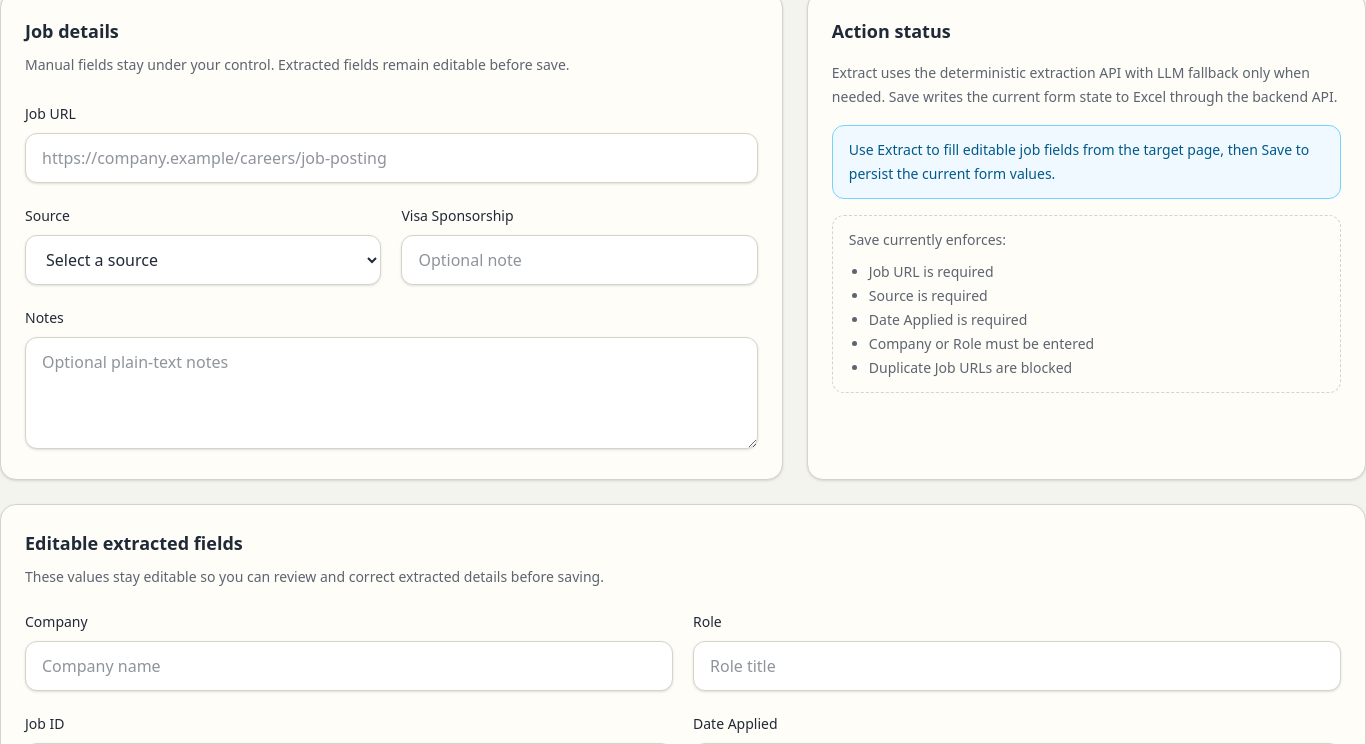
it: AddJobForm › handles a malformed extraction response safely
Type "https://jobs.example.com/frontend-role" into the field labelled "Job URL".
click(391, 158); type("https://jobs.example.com/frontend-role")  # box [25,133,758,183]
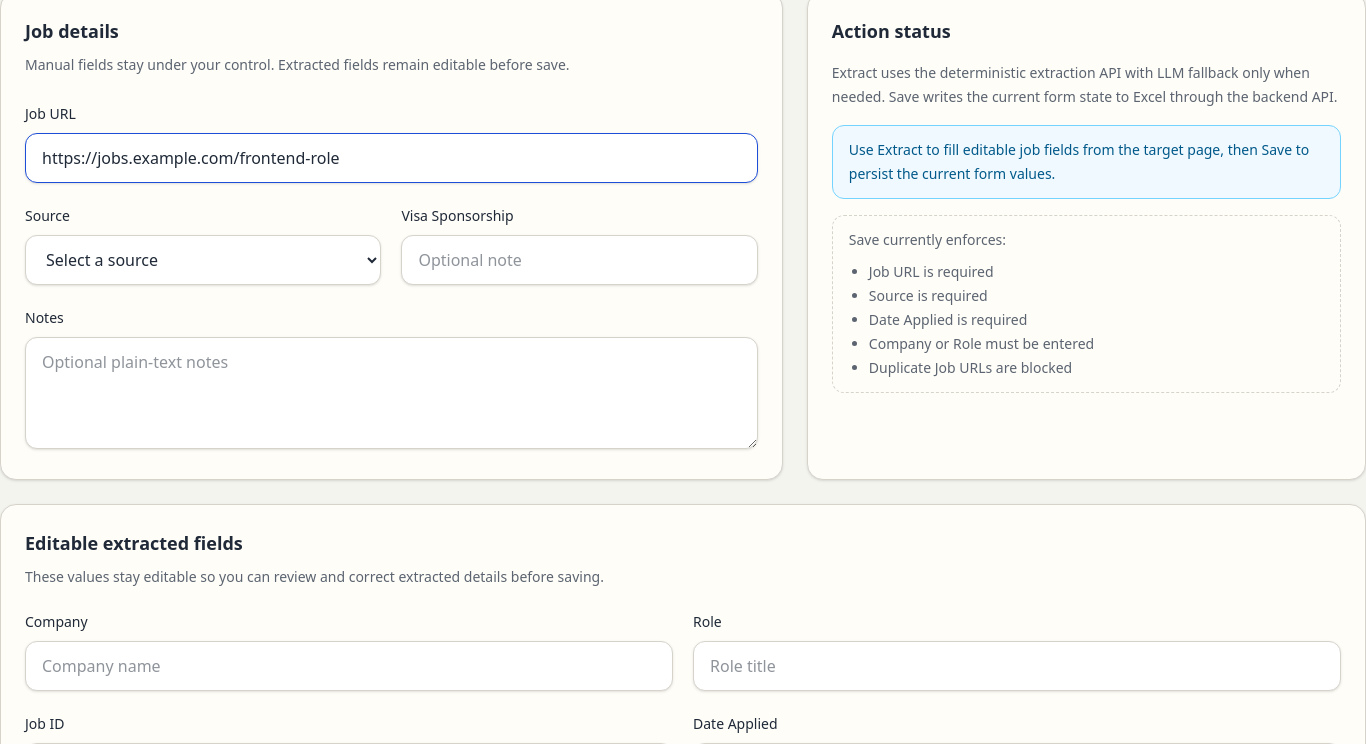
Select "LinkedIn" in the dropdown labelled "Source" at [203, 260], box [25,235,381,285]
(page scrolled)
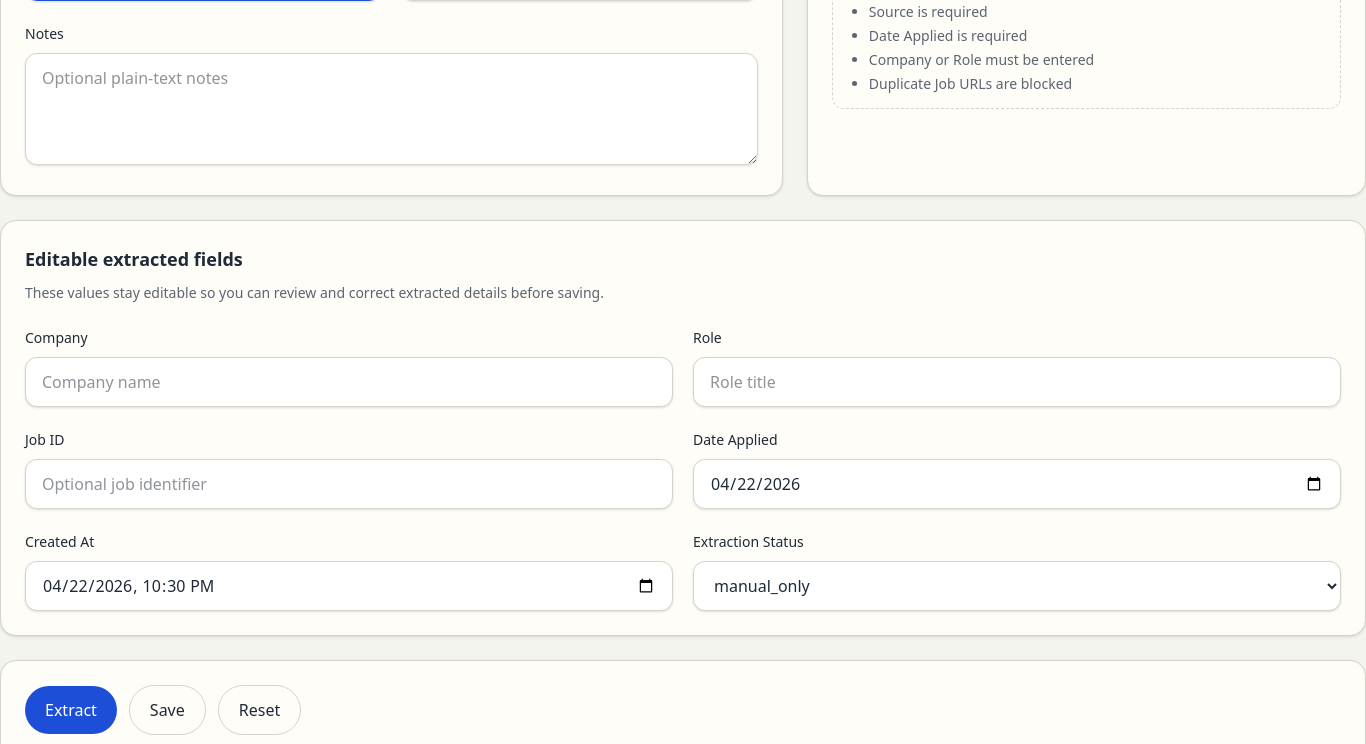
Click the button "Extract".
click(71, 710)  # box [25,686,117,734]
(page scrolled)
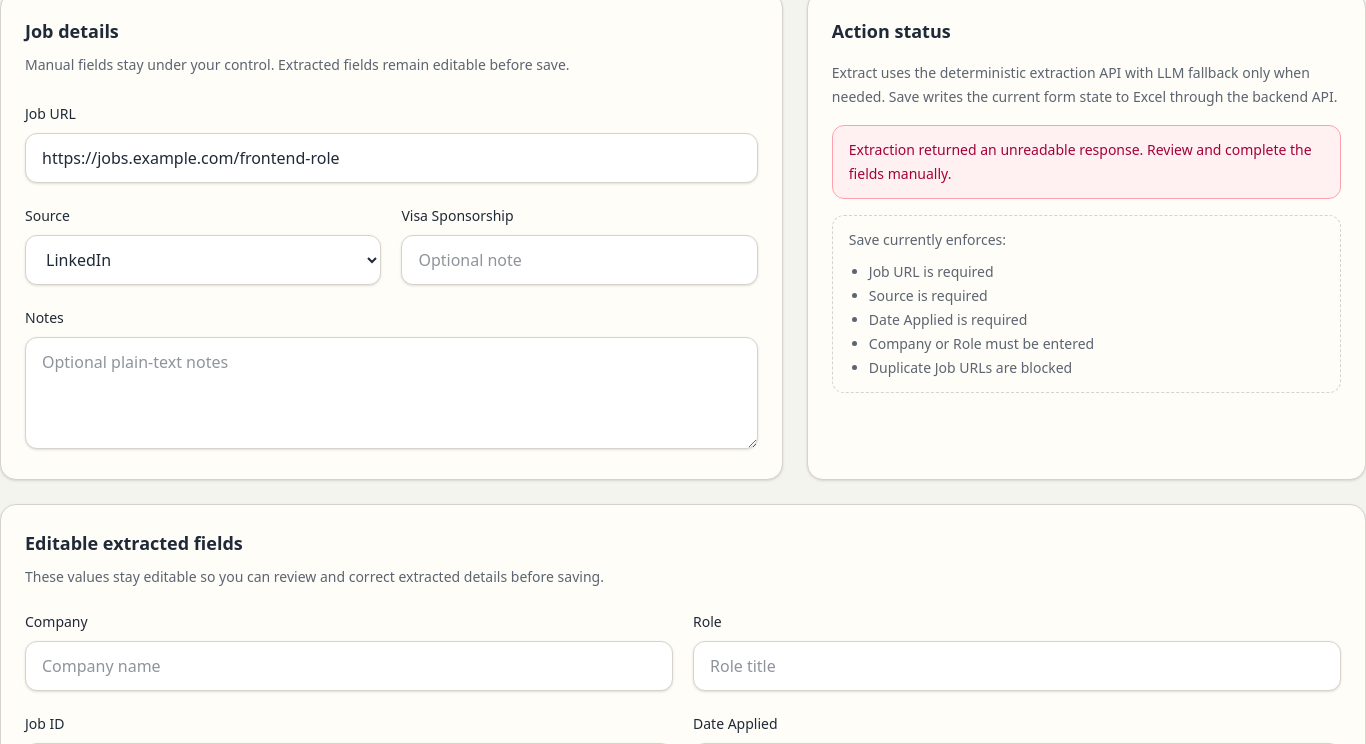
Now the text "Extraction returned an unreadable response. Review and complete the fields manually." is shown, box [849,140,1312,183]
